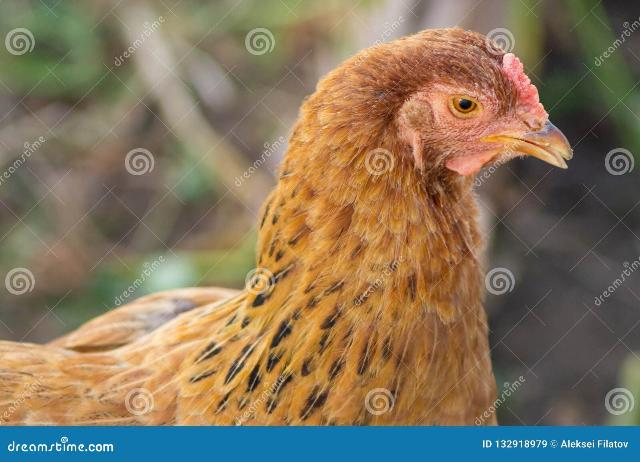Chicken: (0, 30, 573, 426)
